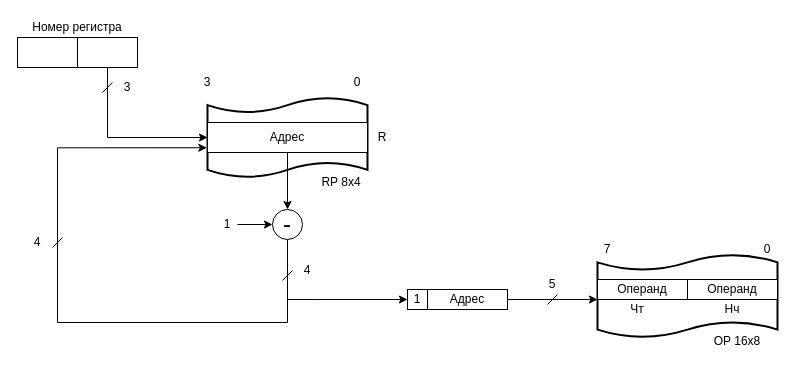
This 796x368 diagram has some shape labels left out. Each missing label, with the centre of its shape:
R2: point (107, 52)
КОП: point (47, 52)
